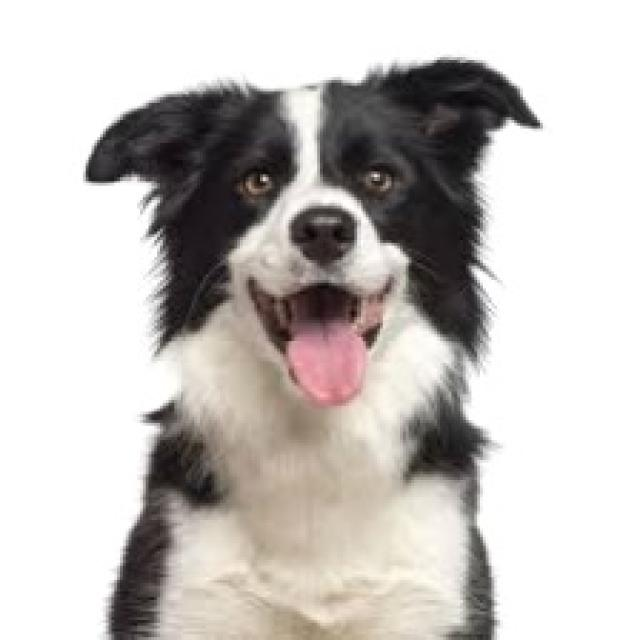bear: (77, 64, 609, 640)
